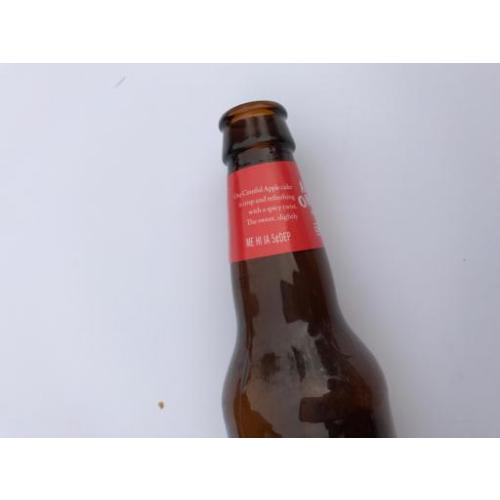glass: (220, 100, 392, 441)
